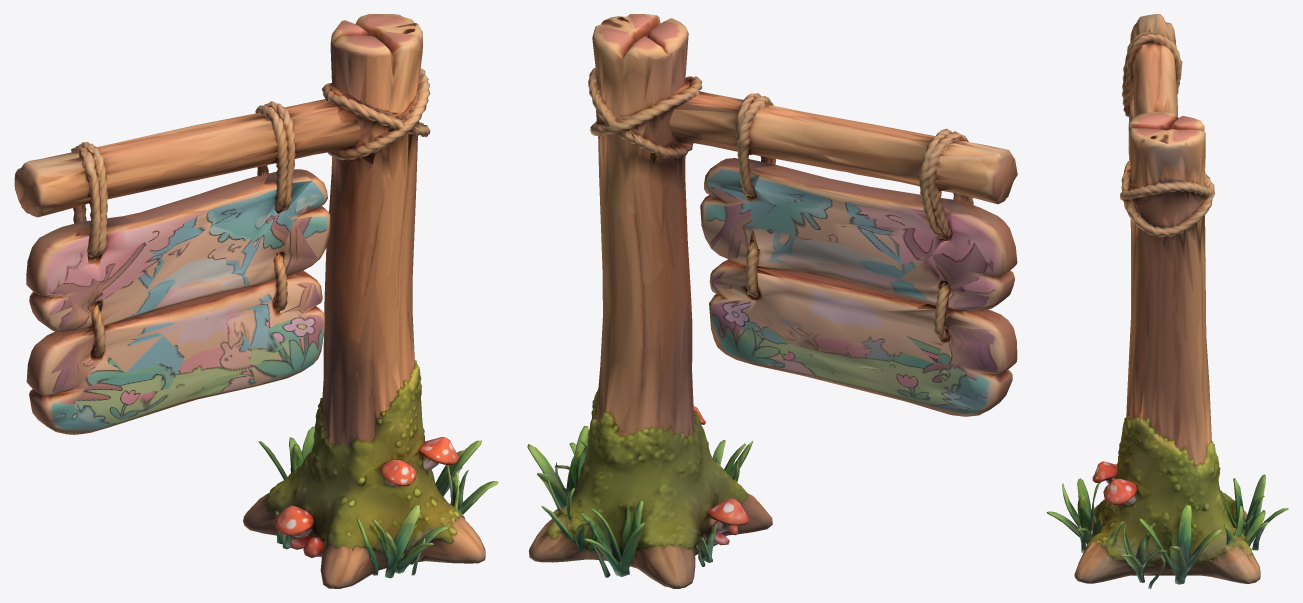
Rendered from Woodland_Signboard.fbx.
The picture shows the model from 3 angles, left to right: view 1: azimuth 30°, elevation 25°; view 2: azimuth 150°, elevation 25°; view 3: azimuth 270°, elevation 25°; orthographic projection. The views are drawn at different scales.
Parts seen in each view (by area): view 1: Mesh_0; view 2: Mesh_0; view 3: Mesh_0.
Part boxes in pixels (left/top/right/bottom): Mesh_0: left=14, top=14, right=498, bottom=588; Mesh_0: left=527, top=14, right=1017, bottom=588; Mesh_0: left=1046, top=14, right=1288, bottom=588.
Size of the model in its own units: 97.13 by 99.99 by 50.87.
Materials: 1 (1 with a texture image).
